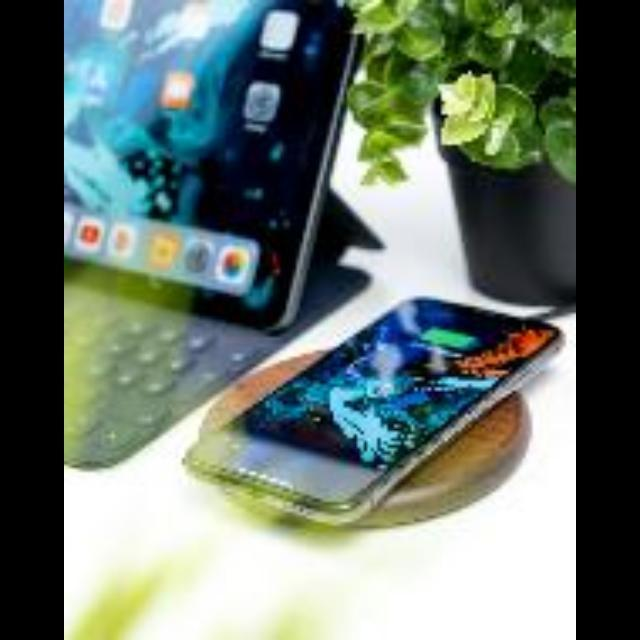PhoneUse: (184, 297, 564, 519)
